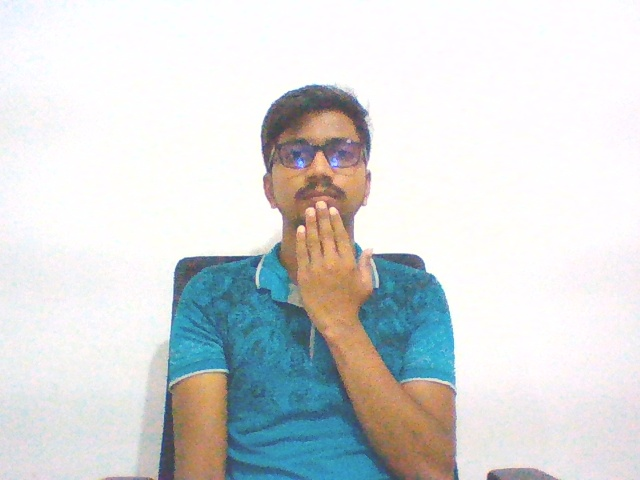mango: (282, 192, 386, 345)
